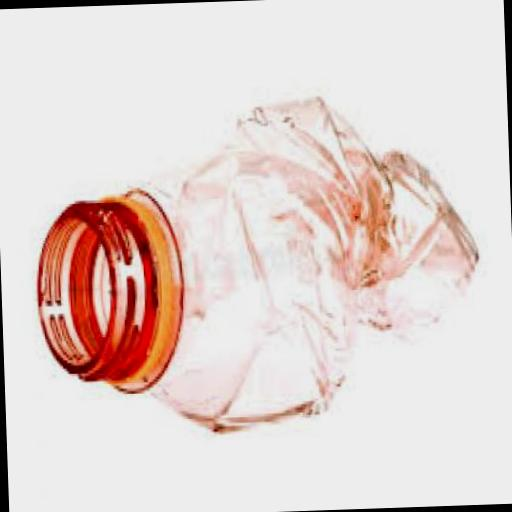plastic: (29, 91, 482, 441)
